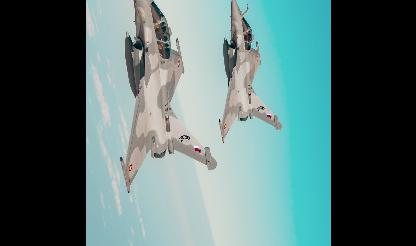RQ4: (119, 0, 217, 192), (218, 0, 282, 143)
